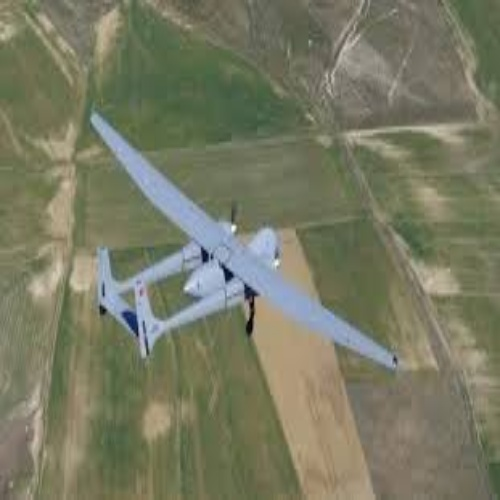uav10: (86, 112, 401, 370)
